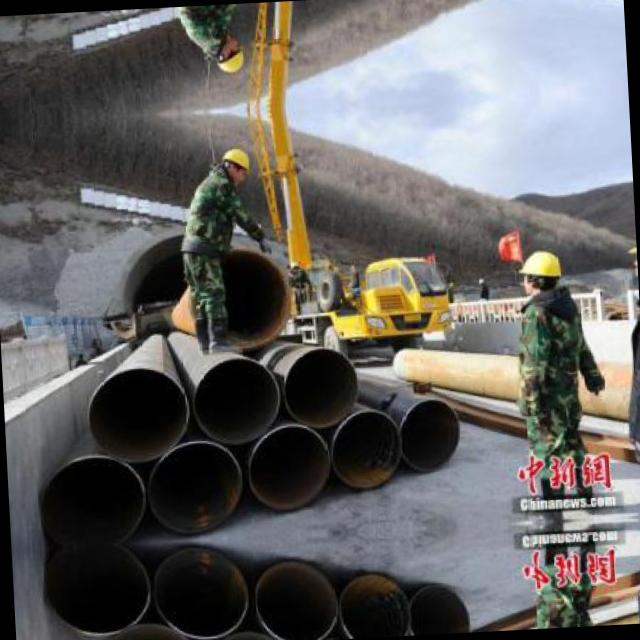helmet: (518, 245, 564, 298), (218, 144, 252, 186), (212, 36, 246, 78)
